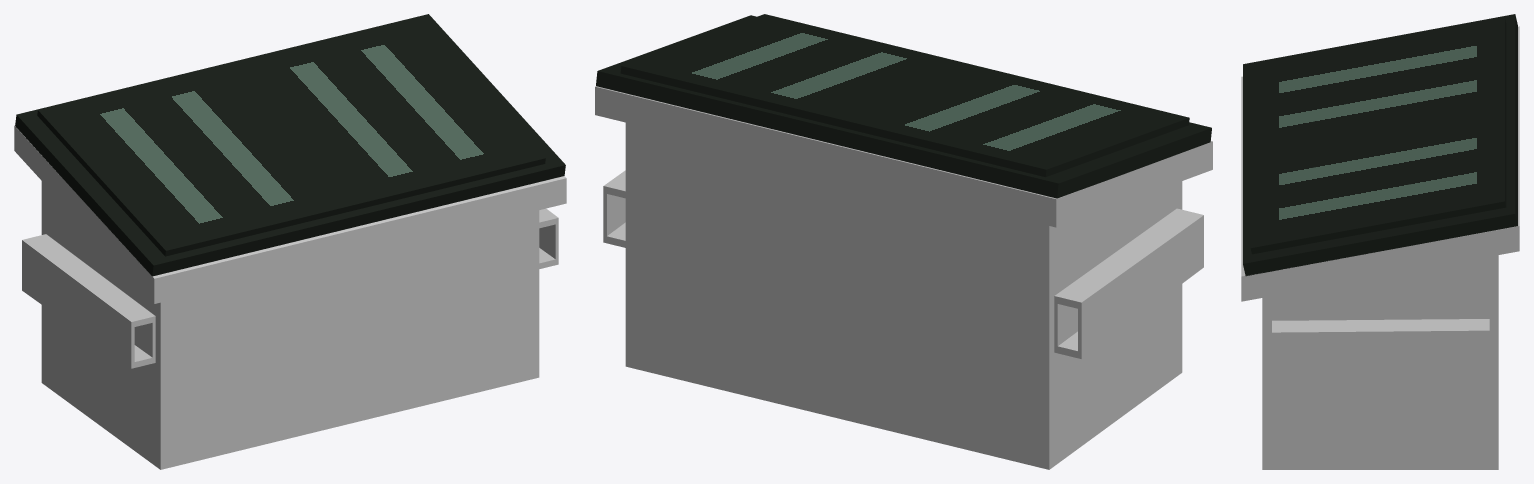
The model's file is Dumpster(OLD).fbx.
3 views of the same model, side by side, from view 1: azimuth 30°, elevation 25°; view 2: azimuth 150°, elevation 25°; view 3: azimuth 270°, elevation 25° (orthographic). The views are drawn at different scales.
Parts seen in each view (by area): view 1: Bin_Base, Lid_Left, Lid_Right; view 2: Bin_Base, Lid_Left, Lid_Right; view 3: Bin_Base, Lid_Right, Lid_Left.
Boxes of the visible parts, <box> form: Bin_Base: <box>14,125,566,469</box>; Lid_Left: <box>15,63,359,276</box>; Lid_Right: <box>223,14,565,225</box>; Bin_Base: <box>595,86,1212,469</box>; Lid_Left: <box>826,66,1211,198</box>; Lid_Right: <box>596,14,976,141</box>; Bin_Base: <box>1241,26,1519,469</box>; Lid_Right: <box>1243,109,1517,276</box>; Lid_Left: <box>1243,14,1517,163</box>.
Bounding box in the file's own units: 440 × 267 × 250.
